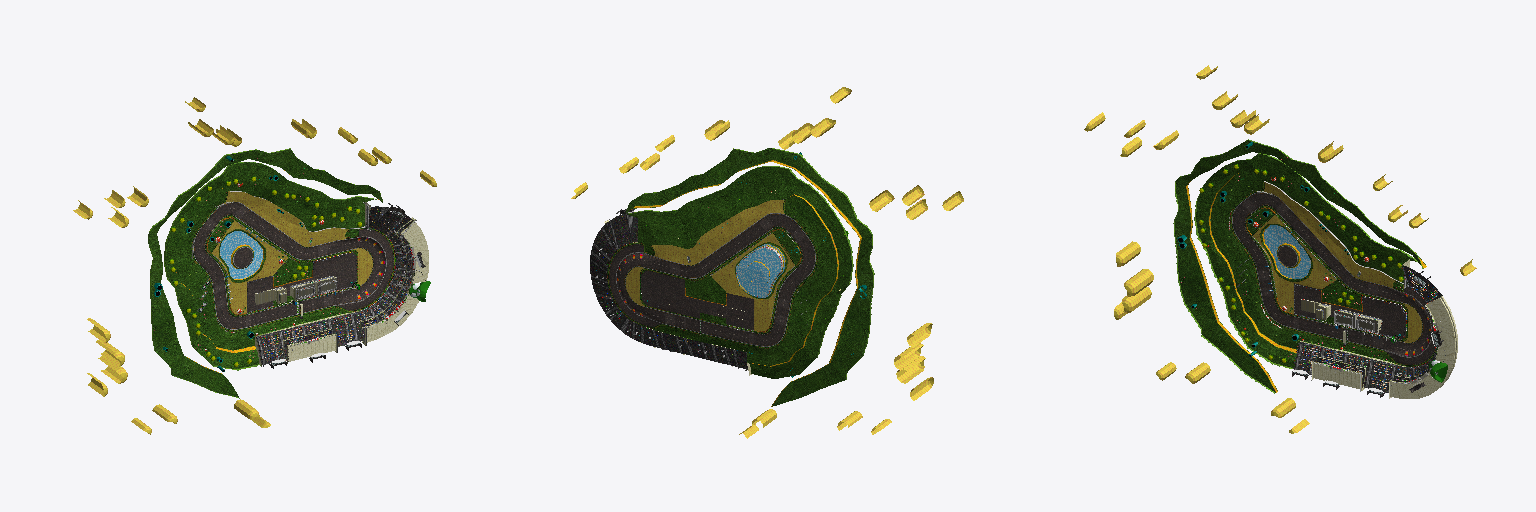
The picture shows the model from 3 angles: view 1: azimuth 30°, elevation 25°; view 2: azimuth 150°, elevation 25°; view 3: azimuth 330°, elevation 25°; orthographic projection.
Visible parts, largest first — view 1: course; view 2: course; view 3: course.
Boxes of the visible parts, box(x1,y1,x2,y2) form: course: box(73, 97, 436, 434); course: box(571, 87, 963, 438); course: box(1084, 65, 1476, 433).
Size of the model in its own units: 113 by 103 by 14.88.
23 materials, 22 textured.